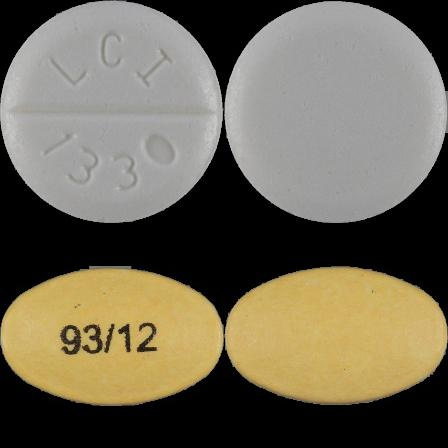68788-9246: (0, 0, 224, 224)
